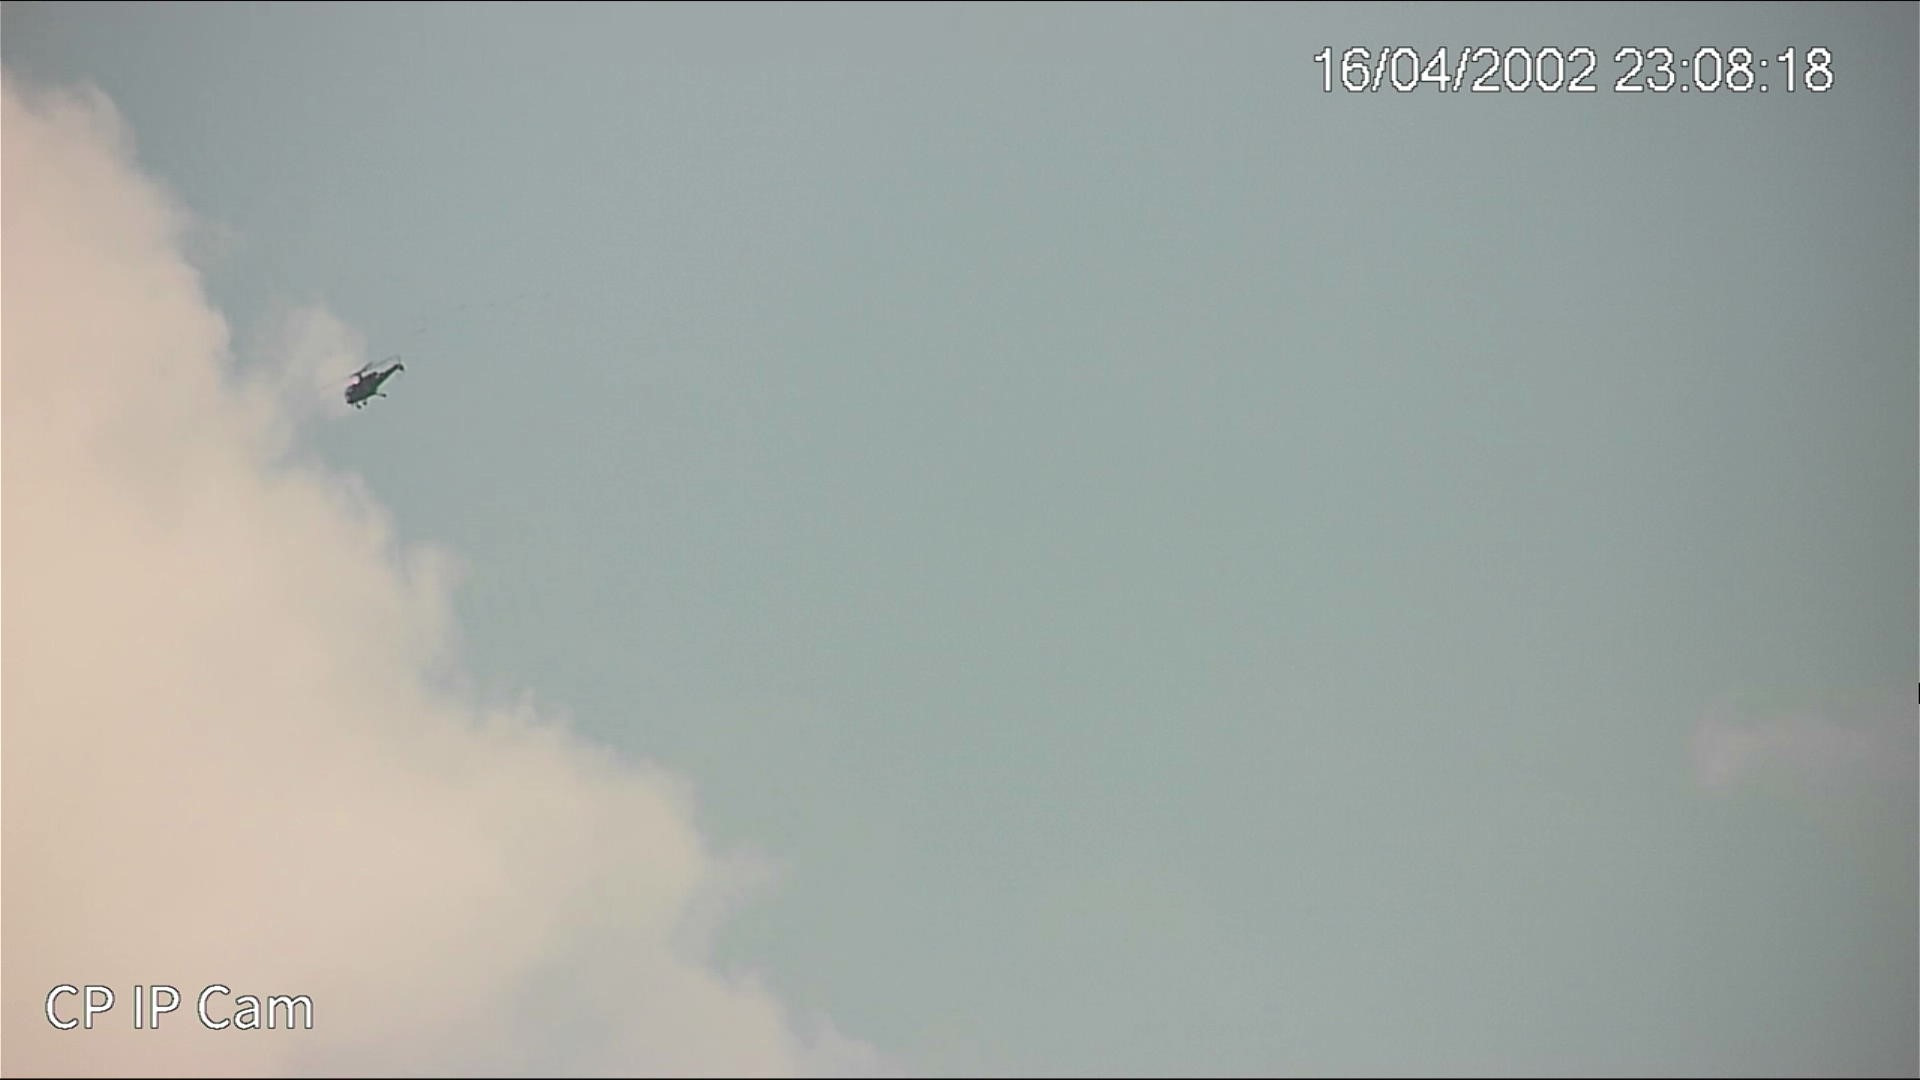SU_30: (338, 356, 407, 407)
